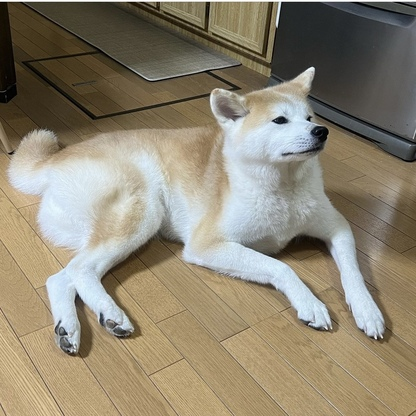akita: (6, 60, 391, 358)
